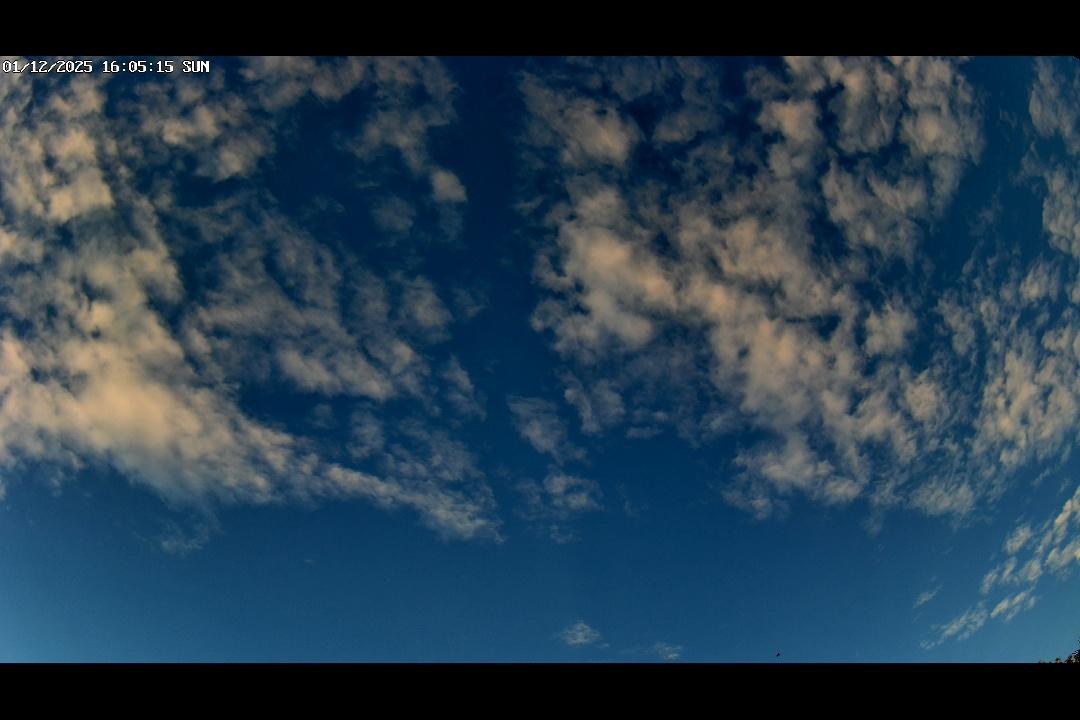WildLife: (769, 650, 783, 659)
